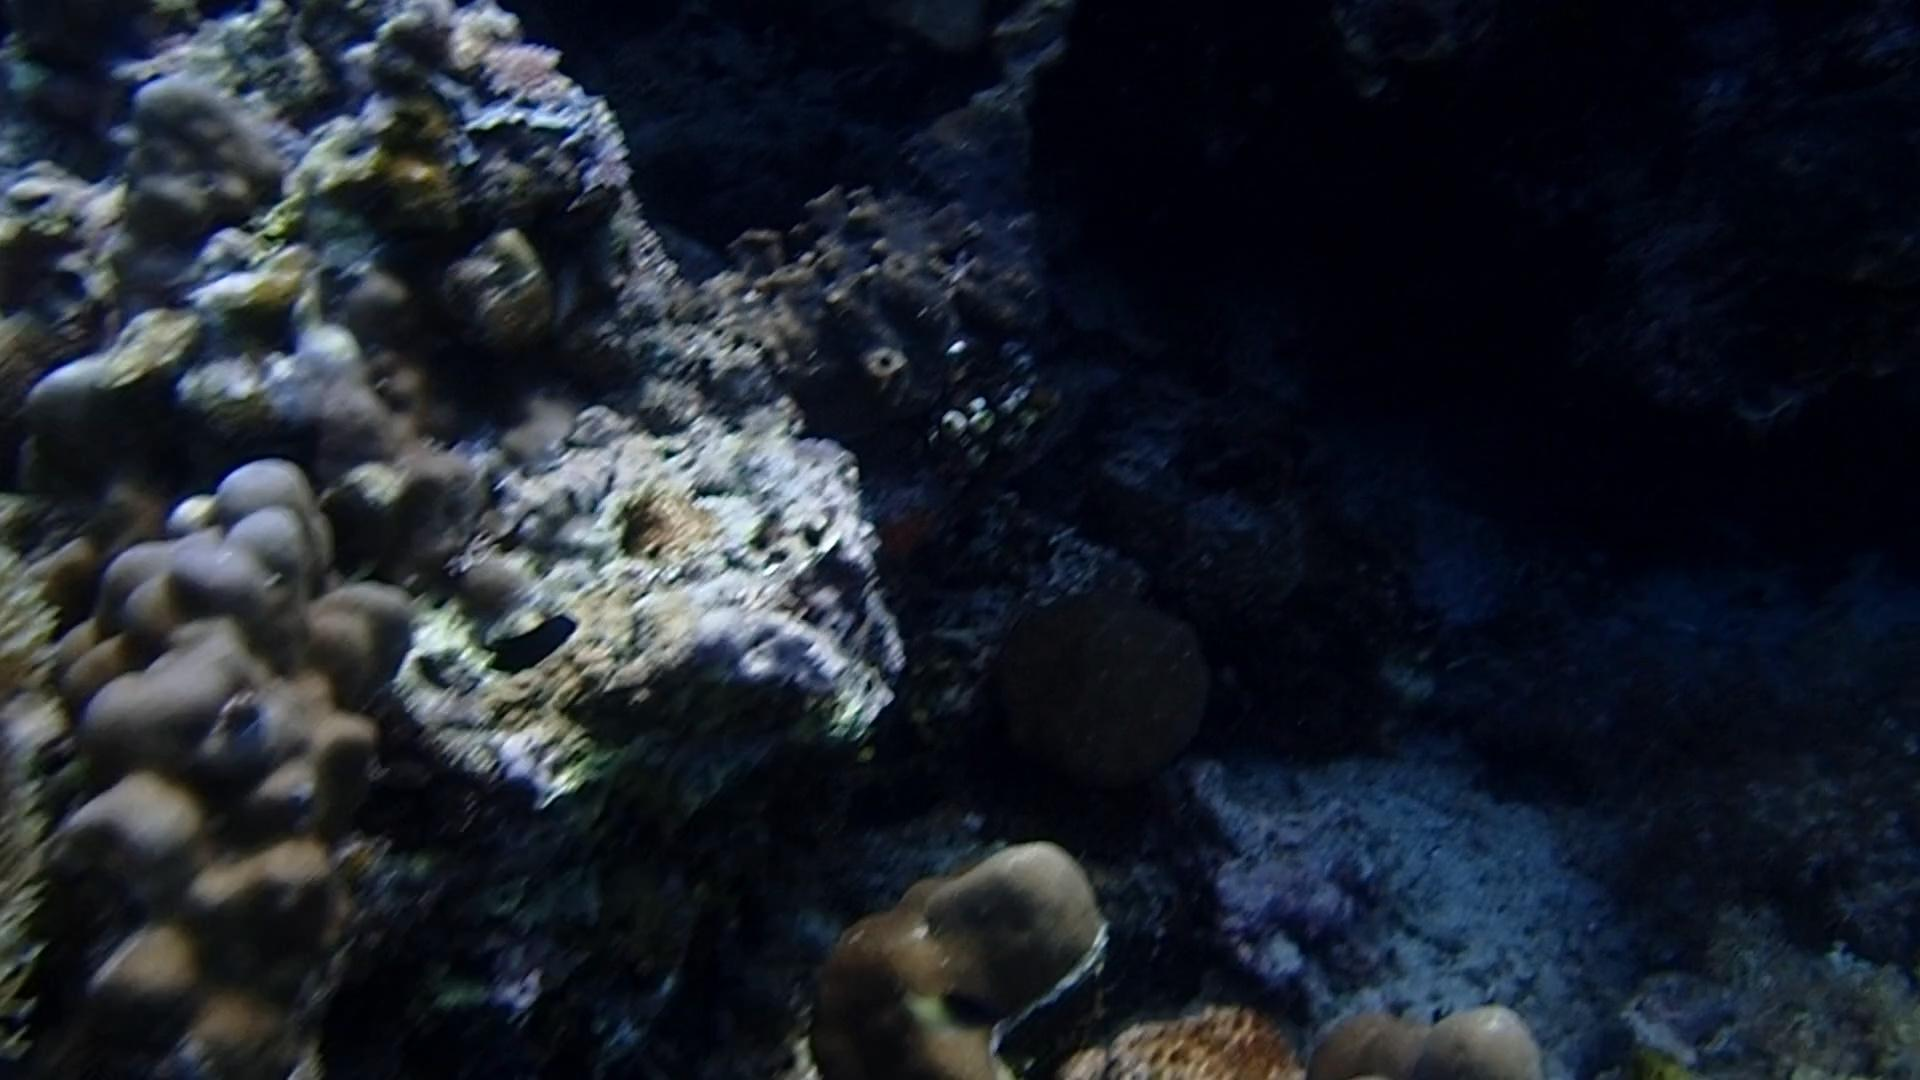Dark Fish: (477, 605, 578, 688)
Yellow Tail: (881, 977, 1013, 1043)
